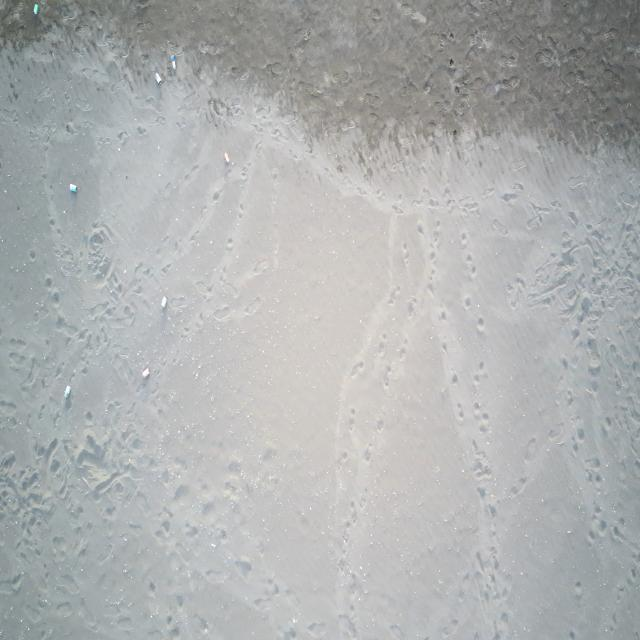tin-and-aluminum-cans: (222, 150, 231, 163), (170, 54, 177, 70), (154, 71, 162, 85), (161, 296, 168, 310), (142, 367, 150, 379), (69, 183, 78, 193), (34, 2, 40, 16), (64, 386, 70, 400)
